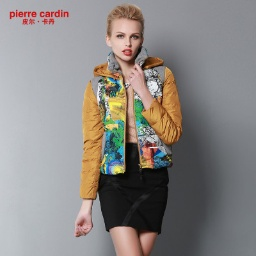face: (99, 2, 151, 67)
